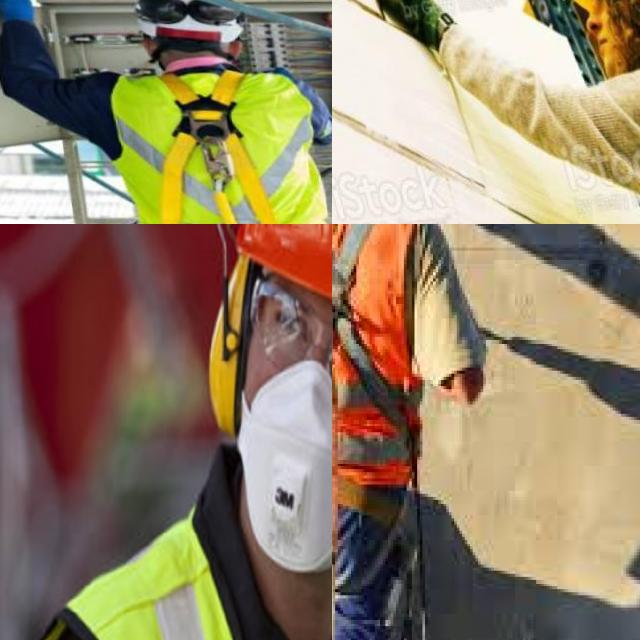Ear-protection: (211, 224, 332, 589)
Harness: (332, 224, 426, 640), (160, 71, 278, 224)
glasses: (246, 278, 332, 412)
person: (8, 224, 332, 640)
